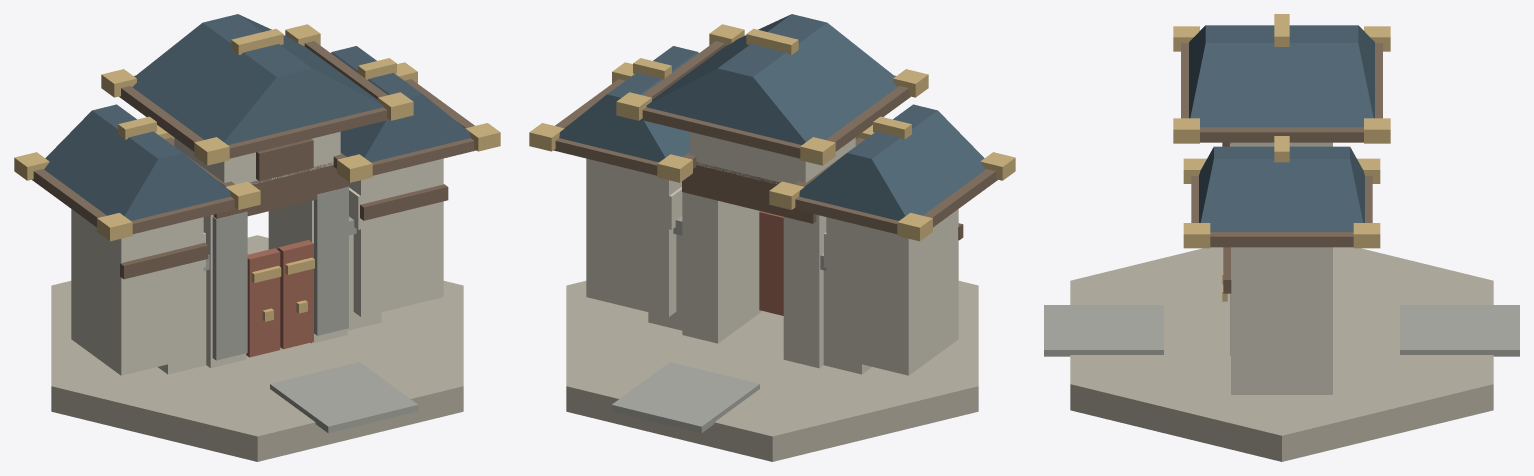
The model's file is gate-small.glb.
3 renders of one model, left to right at view 1: azimuth 30°, elevation 25°; view 2: azimuth 150°, elevation 25°; view 3: azimuth 270°, elevation 25°, orthographic. The views are drawn at different scales.
Visible parts, largest first — view 1: hex_foundation, main_roof_tiles, left_watchtower, left_tower_roof_tiles, right_watchtower, front_road, right_tower_roof_tiles, left_pillar_trim, right_pillar_trim, right_door_leaf, left_door_leaf, gate_lintel (+27 smaller); view 2: hex_foundation, main_roof_tiles, left_watchtower, right_watchtower, left_tower_roof_tiles, right_gate_pillar, rear_road, left_gate_pillar, right_tower_roof_tiles, gate_upper, gate_lintel, right_door_leaf (+21 smaller); view 3: hex_foundation, main_roof_tiles, right_watchtower, right_tower_roof_tiles, front_road, rear_road, main_roof_right_eave, right_tower_roof_right_eave, right_tower_roof_corner_1_1, right_tower_roof_corner_1_-1, main_roof_corner_1_1, main_roof_corner_1_-1 (+3 smaller).
Boxes of the visible parts, <box> form: hex_foundation: <box>51,235,463,461</box>; main_roof_tiles: <box>132,14,383,144</box>; left_watchtower: <box>71,209,203,375</box>; left_tower_roof_tiles: <box>44,104,230,220</box>; right_watchtower: <box>348,158,443,316</box>; front_road: <box>270,362,418,433</box>; right_tower_roof_tiles: <box>331,46,470,162</box>; left_pillar_trim: <box>212,211,247,360</box>; right_pillar_trim: <box>314,186,348,335</box>; right_door_leaf: <box>278,240,313,349</box>; left_door_leaf: <box>246,248,280,357</box>; gate_lintel: <box>213,162,347,218</box>; hex_foundation: <box>566,281,978,461</box>; main_roof_tiles: <box>646,14,897,144</box>; left_watchtower: <box>826,209,958,375</box>; right_watchtower: <box>586,158,681,316</box>; left_tower_roof_tiles: <box>799,104,985,220</box>; right_gate_pillar: <box>682,192,761,343</box>; rear_road: <box>611,362,759,433</box>; left_gate_pillar: <box>783,214,826,368</box>; right_tower_roof_tiles: <box>559,46,698,162</box>; gate_upper: <box>689,131,855,184</box>; gate_lintel: <box>682,162,816,223</box>; right_door_leaf: <box>759,211,783,315</box>; hex_foundation: <box>1070,247,1493,461</box>; main_roof_tiles: <box>1189,25,1374,127</box>; right_watchtower: <box>1231,247,1332,394</box>; right_tower_roof_tiles: <box>1199,146,1364,231</box>; front_road: <box>1044,305,1163,356</box>; rear_road: <box>1400,305,1519,356</box>; main_roof_right_eave: <box>1200,127,1363,142</box>; right_tower_roof_right_eave: <box>1210,232,1353,247</box>; right_tower_roof_corner_1_1: <box>1353,223,1380,248</box>; right_tower_roof_corner_1_-1: <box>1183,223,1210,248</box>; main_roof_corner_1_1: <box>1364,118,1390,143</box>; main_roof_corner_1_-1: <box>1173,118,1199,143</box>.
Size of the model in its own units: 1.1 by 0.827 by 1.07.
